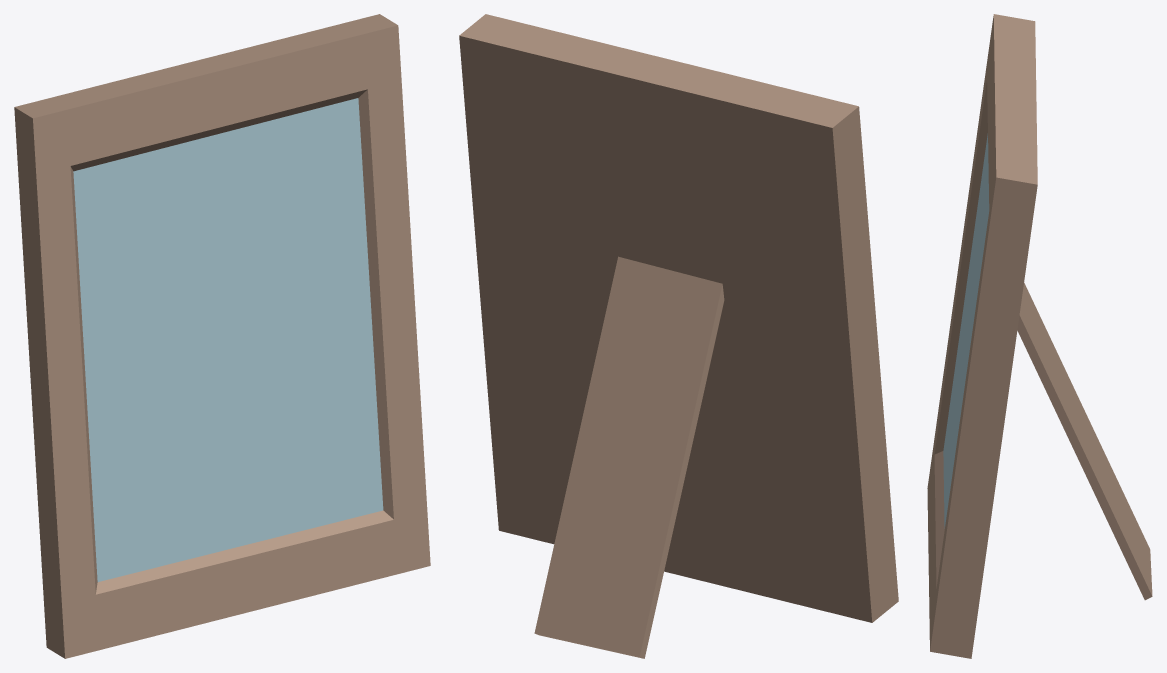
The model's file is Photoframe_1.fbx.
3 views of the same model, side by side, from view 1: azimuth 30°, elevation 25°; view 2: azimuth 150°, elevation 25°; view 3: azimuth 270°, elevation 25° (orthographic). The views are drawn at different scales.
Parts seen in each view (by area): view 1: Photoframe_1; view 2: Photoframe_1; view 3: Photoframe_1.
Boxes of the visible parts, left/top/right/bottom form: Photoframe_1: left=14, top=14, right=430, bottom=658; Photoframe_1: left=459, top=14, right=898, bottom=658; Photoframe_1: left=927, top=14, right=1152, bottom=658.
Bounding box in the file's own units: 20.11 × 11.3 × 26.81.
